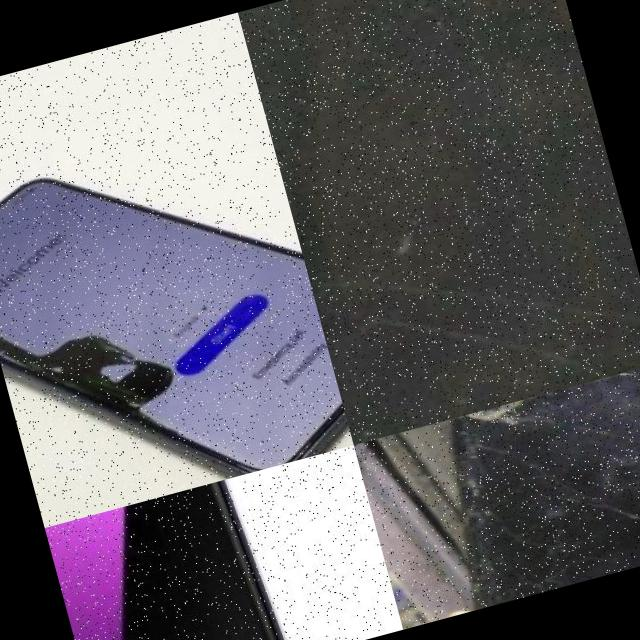dead pixel: (0, 211, 213, 493)
screen crack: (284, 103, 640, 444), (421, 361, 640, 537)
